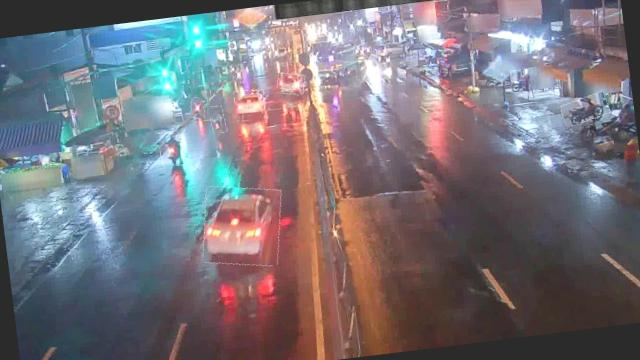Bike: (559, 93, 610, 126), (157, 130, 183, 166), (208, 104, 226, 134), (188, 96, 206, 119), (198, 86, 212, 106)
Car: (198, 180, 286, 272), (233, 88, 266, 122), (274, 70, 306, 96)
